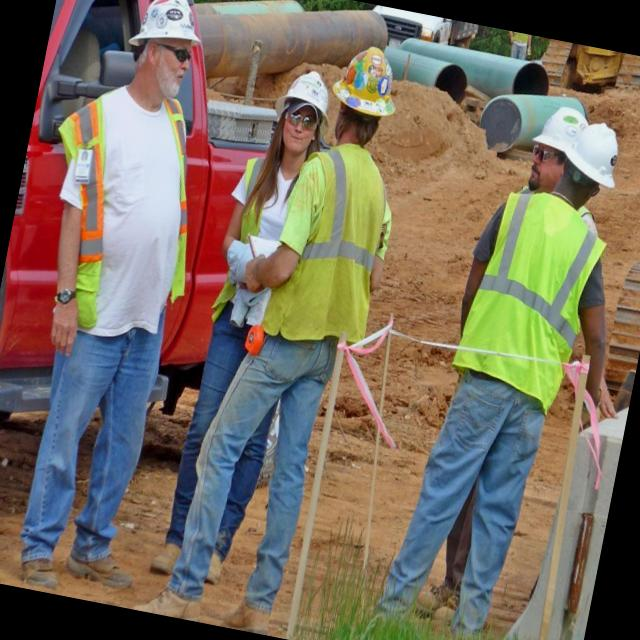helmet: (325, 41, 409, 131), (558, 116, 628, 200), (131, 0, 214, 56)
vest: (446, 175, 613, 418), (256, 128, 404, 364)
